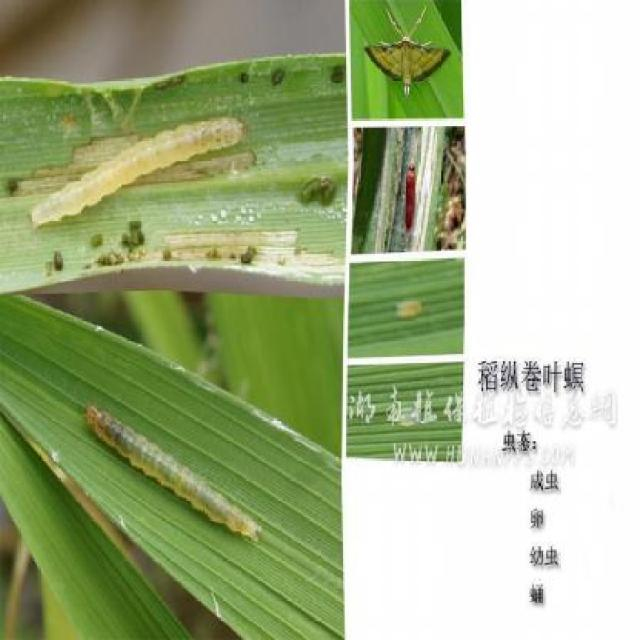leaf-folder: (31, 96, 297, 252), (84, 381, 282, 570), (396, 151, 432, 263), (395, 282, 433, 326)
